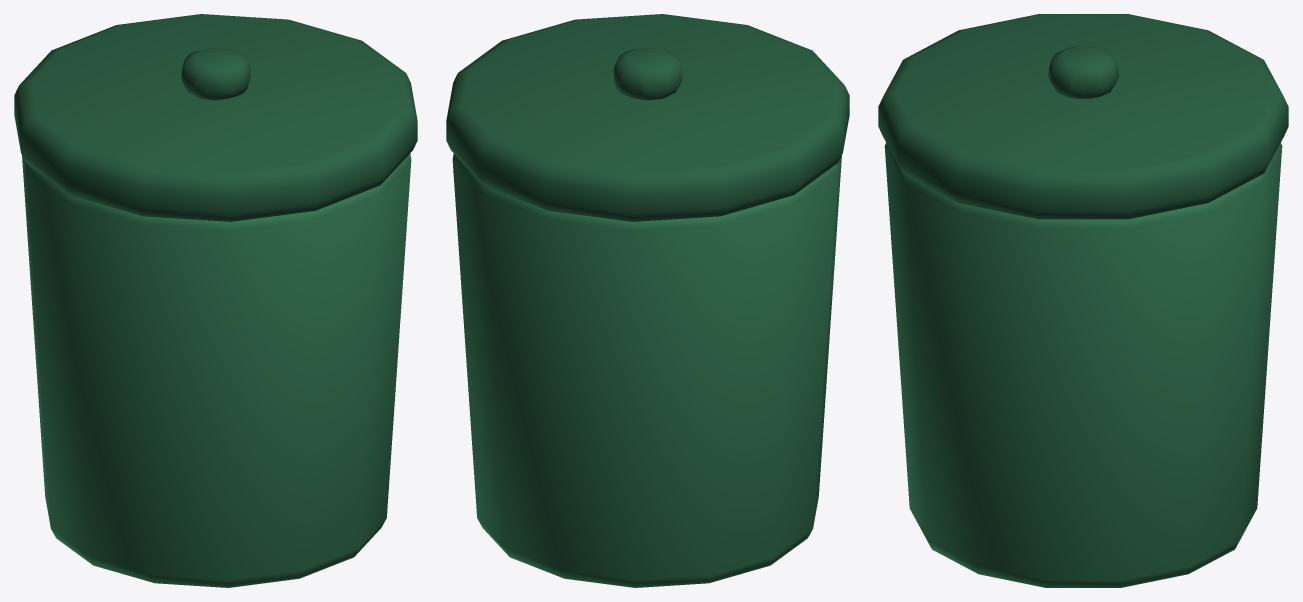
The model's file is prop_bin.glb.
The picture shows the model from 3 angles, left to right: view 1: azimuth 30°, elevation 25°; view 2: azimuth 150°, elevation 25°; view 3: azimuth 270°, elevation 25°; orthographic projection.
Parts seen in each view (by area): view 1: prop_bin; view 2: prop_bin; view 3: prop_bin.
Boxes of the visible parts, box(x1,y1,x2,y2) form: prop_bin: box(14, 14, 417, 587); prop_bin: box(446, 14, 849, 587); prop_bin: box(878, 14, 1288, 587).
Size of the model in its own units: 0.7409 by 0.955 by 0.76.
